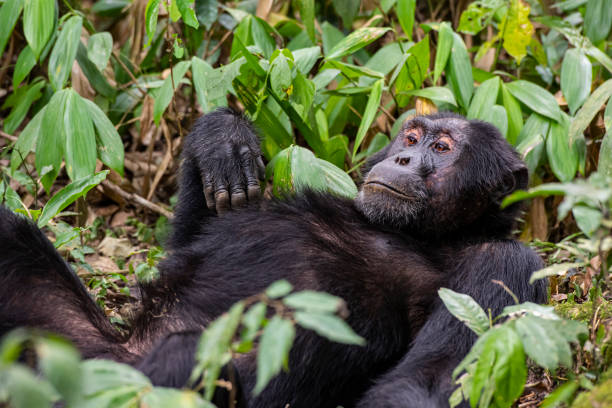chimpanzee: (352, 100, 531, 257)
